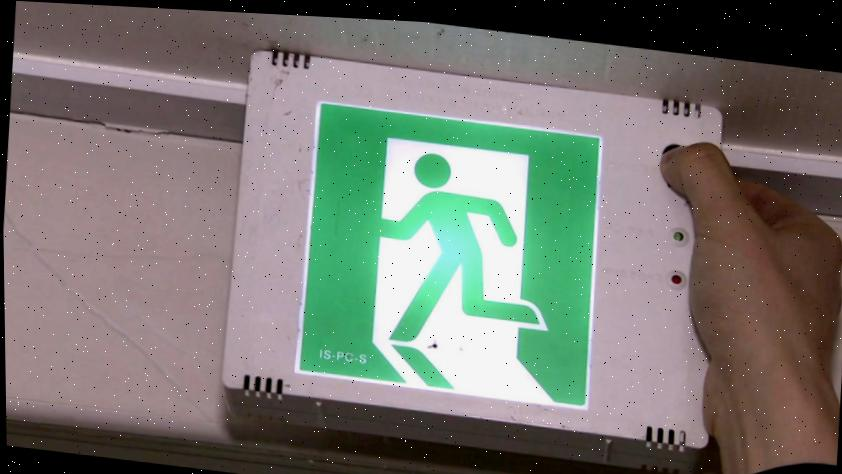emergency_exit: (220, 49, 724, 464), (294, 99, 605, 412)
